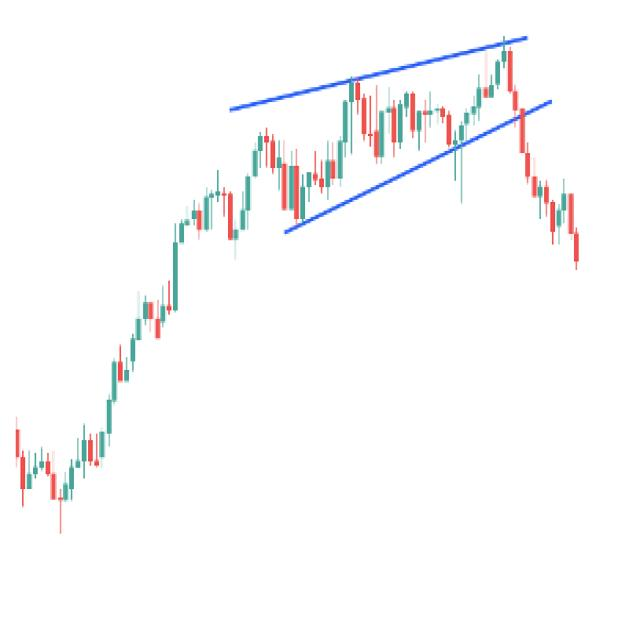Rising-Wedge: (183, 39, 546, 269)
